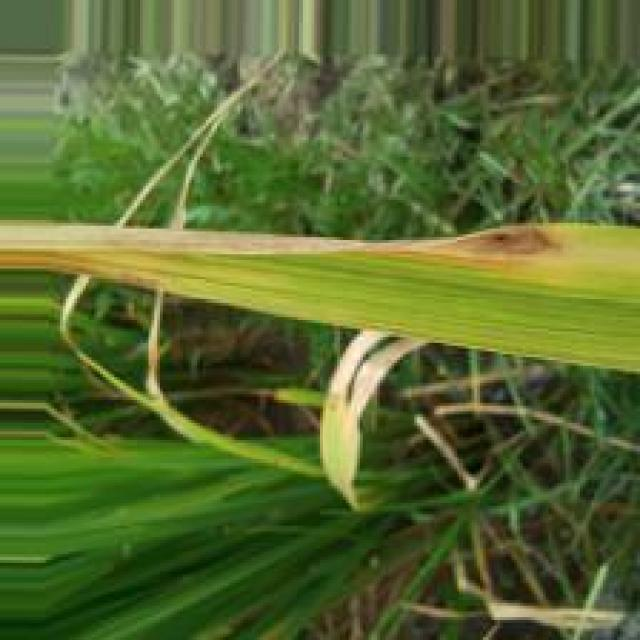Brown_Spot: (429, 227, 572, 260), (117, 272, 164, 292)
